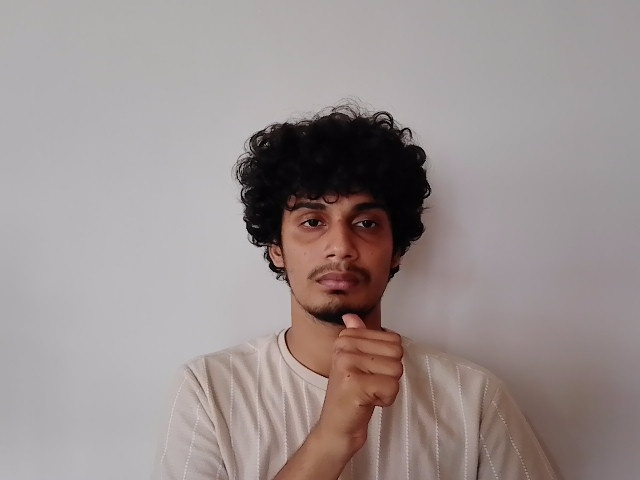not: (285, 288, 418, 420)
